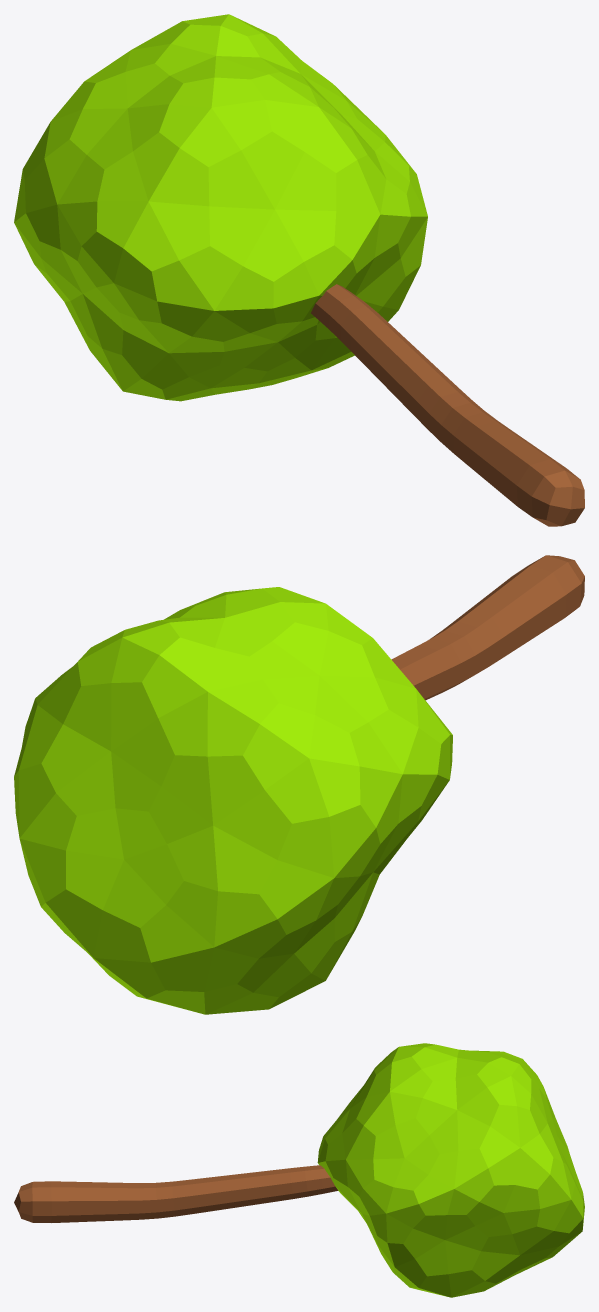
The model's file is Tree_03.fbx.
The picture shows the model from 3 angles, top to bottom: view 1: azimuth 30°, elevation 25°; view 2: azimuth 150°, elevation 25°; view 3: azimuth 270°, elevation 25°; orthographic projection. The views are drawn at different scales.
Parts seen in each view (by area): view 1: Icosphere; view 2: Icosphere; view 3: Icosphere.
Part boxes in pixels (box(x1,y1,x2,y2)): Icosphere: box(14, 14, 584, 526); Icosphere: box(14, 555, 584, 1014); Icosphere: box(14, 1043, 584, 1297).
Bounding box in the file's own units: 338 × 324 × 754.
